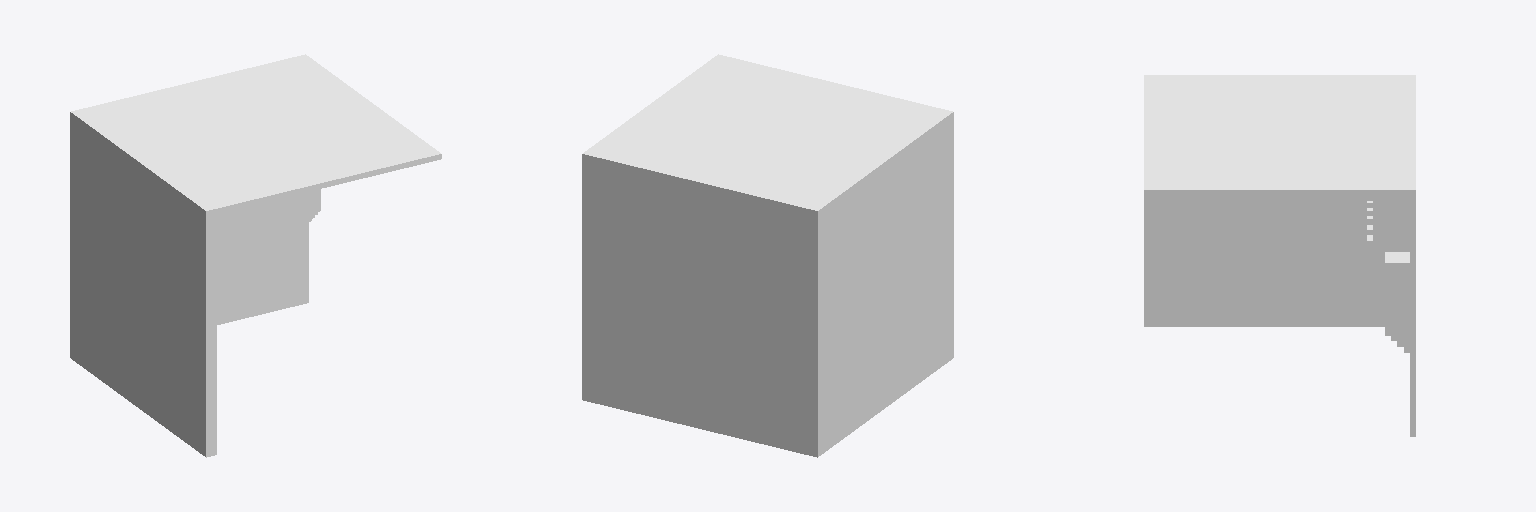
The model's file is mesh_hanger_entrance_top_left.obj.
The picture shows the model from 3 angles: view 1: azimuth 30°, elevation 25°; view 2: azimuth 150°, elevation 25°; view 3: azimuth 270°, elevation 25°; orthographic projection.
Visible parts, largest first — view 1: object 1; view 2: object 1; view 3: object 1.
Part boxes in pixels (left/top/right/bottom): object 1: left=70, top=54, right=441, bottom=457; object 1: left=582, top=54, right=953, bottom=457; object 1: left=1144, top=75, right=1415, bottom=436.
Bounding box in the file's own units: 4.4 × 4.4 × 4.4.